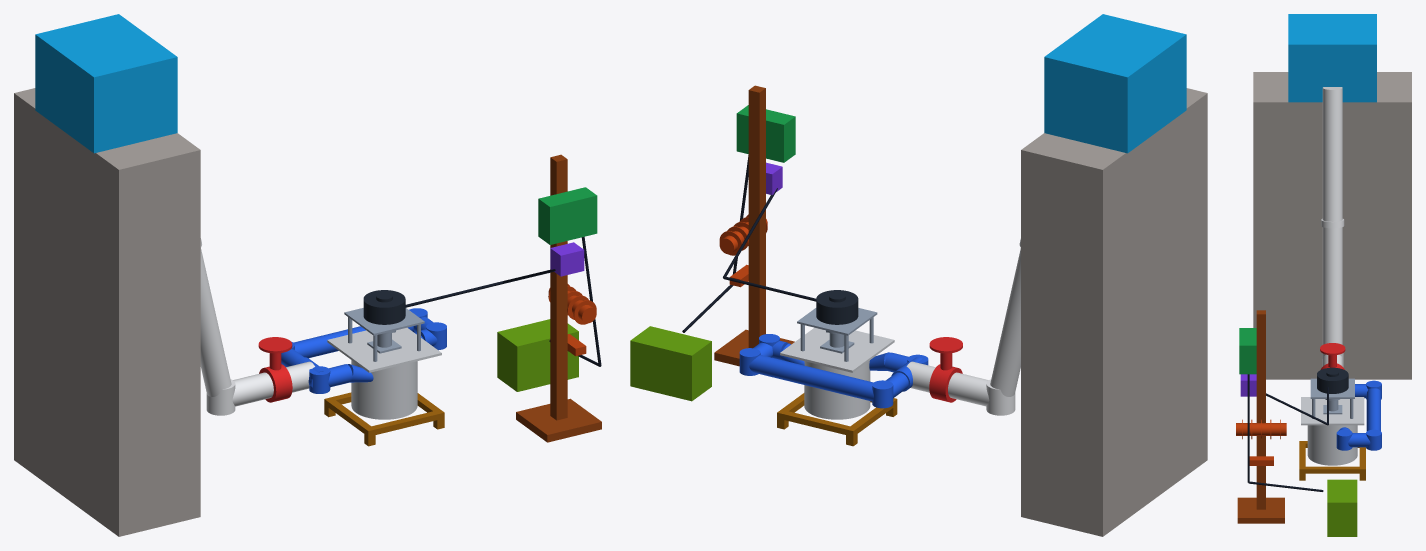
3 views of the same model, side by side, from view 1: azimuth 30°, elevation 25°; view 2: azimuth 150°, elevation 25°; view 3: azimuth 270°, elevation 25° (orthographic). The views are drawn at different scales.
Visible parts, largest first — view 1: Weir or rock step (site, not in kit), Forebay and intake screen, Housing and lid, Equipment post, Penstock, 125 mm PVC (site-dependent), Battery, 12 V (not in kit cost), Nozzle manifold, two nozzles, MPPT, dump-load and clamp controller, Turbine frame, Sealed bearings, housing, mount, guard, Inlet gate valve, Generator, low-speed BLDC (+3 smaller); view 2: Weir or rock step (site, not in kit), Forebay and intake screen, Nozzle manifold, two nozzles, Equipment post, Battery, 12 V (not in kit cost), Penstock, 125 mm PVC (site-dependent), Housing and lid, MPPT, dump-load and clamp controller, Turbine frame, Sealed bearings, housing, mount, guard, Inlet gate valve, Generator, low-speed BLDC (+2 smaller); view 3: Weir or rock step (site, not in kit), Forebay and intake screen, Penstock, 125 mm PVC (site-dependent), Equipment post, Housing and lid, Battery, 12 V (not in kit cost), Nozzle manifold, two nozzles, Turbine frame, Dump-load and clamp resistors, Sealed bearings, housing, mount, guard, MPPT, dump-load and clamp controller, Wiring, fuse and isolator (+3 smaller).
Part boxes in pixels (box(x1,y1,x2,y2)): Weir or rock step (site, not in kit): box(14, 88, 200, 536); Forebay and intake screen: box(35, 14, 177, 153); Housing and lid: box(327, 327, 441, 419); Equipment post: box(516, 154, 601, 442); Penstock, 125 mm PVC (site-dependent): box(200, 238, 314, 415); Battery, 12 V (not in kit cost): box(497, 319, 578, 391); Nozzle manifold, two nozzles: box(281, 308, 446, 393); MPPT, dump-load and clamp controller: box(538, 187, 597, 244); Turbine frame: box(324, 392, 444, 446); Sealed bearings, housing, mount, guard: box(344, 308, 424, 361); Inlet gate valve: box(258, 337, 292, 402); Generator, low-speed BLDC: box(363, 290, 405, 324); Weir or rock step (site, not in kit): box(1021, 88, 1207, 536); Forebay and intake screen: box(1044, 14, 1186, 153); Nozzle manifold, two nozzles: box(739, 334, 928, 408); Equipment post: box(714, 85, 794, 366); Battery, 12 V (not in kit cost): box(630, 326, 711, 401); Penstock, 125 mm PVC (site-dependent): box(906, 239, 1020, 415); Housing and lid: box(780, 327, 894, 419); MPPT, dump-load and clamp controller: box(736, 105, 795, 162); Turbine frame: box(777, 393, 897, 446); Sealed bearings, housing, mount, guard: box(797, 308, 877, 361); Inlet gate valve: box(929, 337, 962, 402); Generator, low-speed BLDC: box(816, 290, 858, 324); Weir or rock step (site, not in kit): box(1253, 72, 1411, 379); Forebay and intake screen: box(1288, 14, 1376, 102); Penstock, 125 mm PVC (site-dependent): box(1321, 87, 1344, 367); Equipment post: box(1237, 310, 1284, 523); Housing and lid: box(1301, 397, 1364, 465); Battery, 12 V (not in kit cost): box(1327, 479, 1357, 536); Nozzle manifold, two nozzles: box(1336, 380, 1381, 450); Turbine frame: box(1299, 441, 1365, 480); Dump-load and clamp resistors: box(1236, 419, 1286, 465); Sealed bearings, housing, mount, guard: box(1310, 378, 1354, 418); MPPT, dump-load and clamp controller: box(1239, 328, 1256, 374); Wiring, fuse and isolator: box(1247, 374, 1328, 491).
Bounding box in the file's own units: 2.81 × 2.33 × 1.11.
